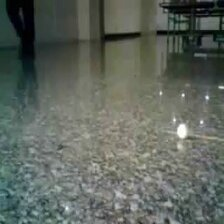w: (175, 122, 189, 139)
